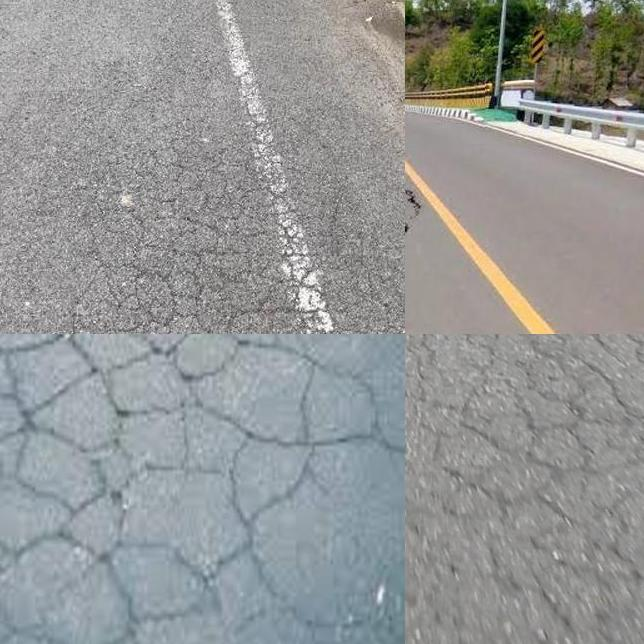Retak Buaya: (0, 334, 374, 644), (405, 334, 644, 644), (46, 135, 405, 334)
